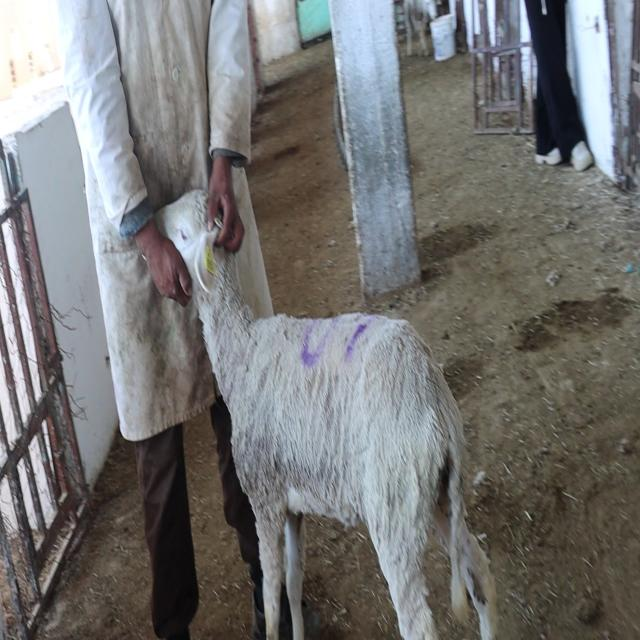Score_2: (159, 190, 497, 639)
